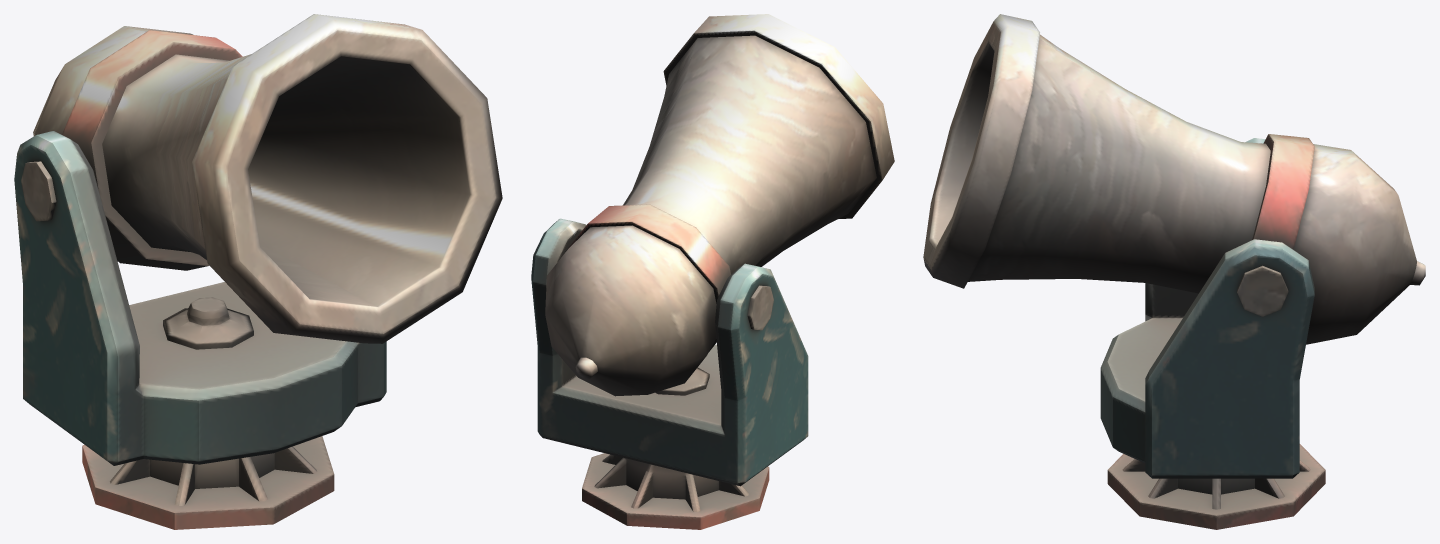
File: cannon.fbx
3 renders of one model, left to right at view 1: azimuth 30°, elevation 25°; view 2: azimuth 150°, elevation 25°; view 3: azimuth 270°, elevation 25°, orthographic. The views are drawn at different scales.
Parts seen in each view (by area): view 1: cannon_demo_cen; view 2: cannon_demo_cen; view 3: cannon_demo_cen.
Part boxes in pixels (bbox=[...]): cannon_demo_cen: bbox=[14, 14, 502, 529]; cannon_demo_cen: bbox=[531, 14, 894, 529]; cannon_demo_cen: bbox=[923, 14, 1425, 529].
Bounding box in the file's own units: 1.72 × 3.12 × 3.1.
Materials: 1 (1 with a texture image).
